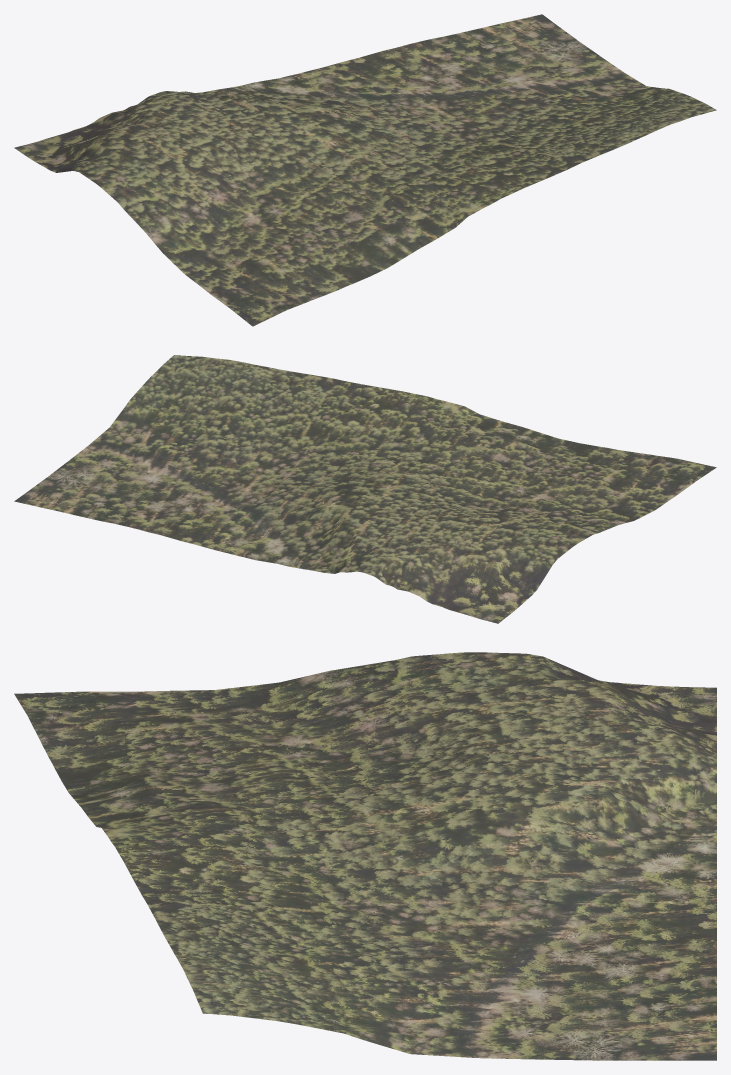
Rendered from CM_Terrain_24492916_6813650.fbx.
The picture shows the model from 3 angles, top to bottom: view 1: azimuth 30°, elevation 25°; view 2: azimuth 150°, elevation 25°; view 3: azimuth 270°, elevation 25°; orthographic projection. The views are drawn at different scales.
Parts seen in each view (by area): view 1: CM_Terrain_24492916_6813650_LOD0; view 2: CM_Terrain_24492916_6813650_LOD0; view 3: CM_Terrain_24492916_6813650_LOD0.
Part boxes in pixels (left/top/right/bottom): CM_Terrain_24492916_6813650_LOD0: left=14, top=14, right=716, bottom=326; CM_Terrain_24492916_6813650_LOD0: left=14, top=355, right=716, bottom=623; CM_Terrain_24492916_6813650_LOD0: left=14, top=652, right=716, bottom=1060.
Size of what is drawn, in the model's own units: 205 by 16.24 by 160.
